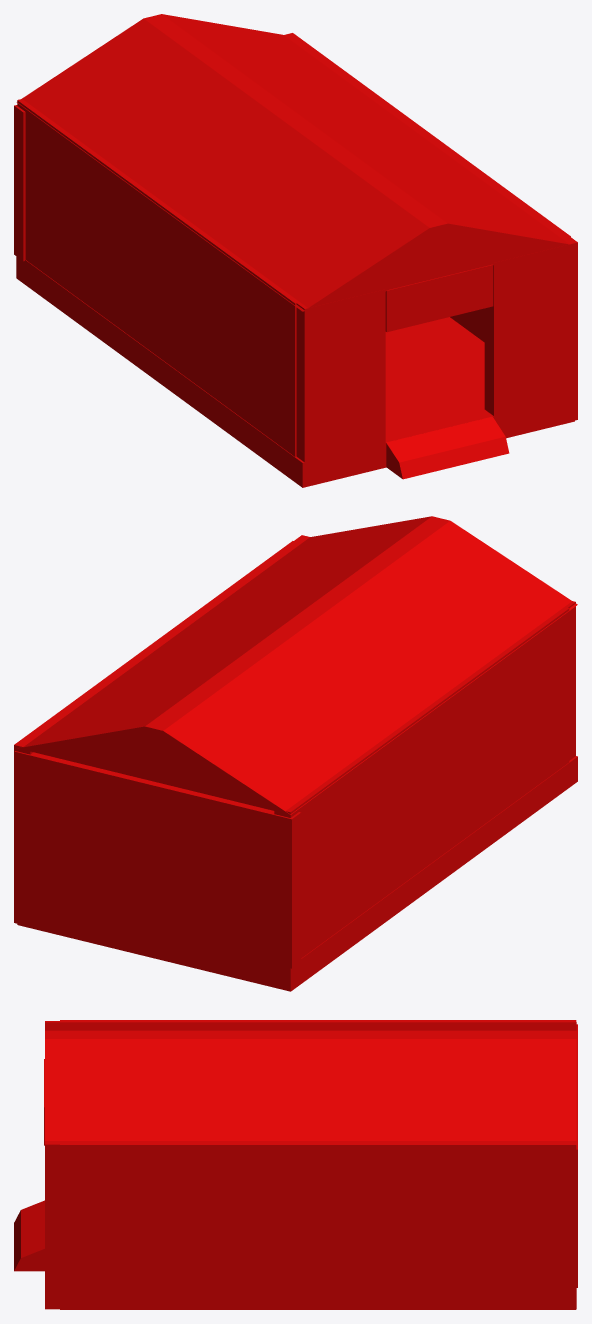
File: SM_Bld_Mexican_01_Collision.fbx
3 renders of one model, top to bottom at view 1: azimuth 30°, elevation 25°; view 2: azimuth 150°, elevation 25°; view 3: azimuth 270°, elevation 25°, orthographic. The views are drawn at different scales.
Parts seen in each view (by area): view 1: SM_Bld_Mexican_01_Collision; view 2: SM_Bld_Mexican_01_Collision; view 3: SM_Bld_Mexican_01_Collision.
Part boxes in pixels (box(x1,y1,x2,y2)): SM_Bld_Mexican_01_Collision: box(14, 14, 577, 487); SM_Bld_Mexican_01_Collision: box(14, 516, 577, 991); SM_Bld_Mexican_01_Collision: box(14, 1020, 577, 1309).
Size of the model in its own units: 567 by 447 by 1074.
